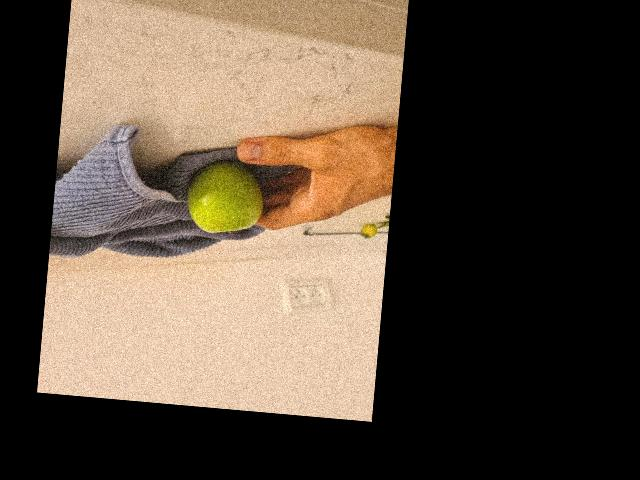apple: (187, 158, 261, 238)
